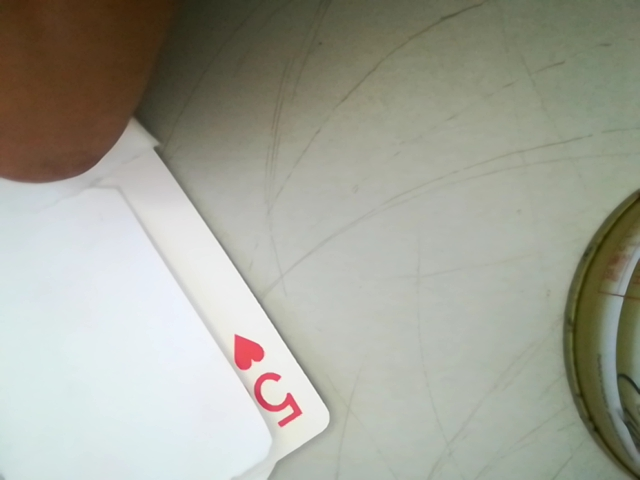hx 5: (213, 325, 308, 442)
